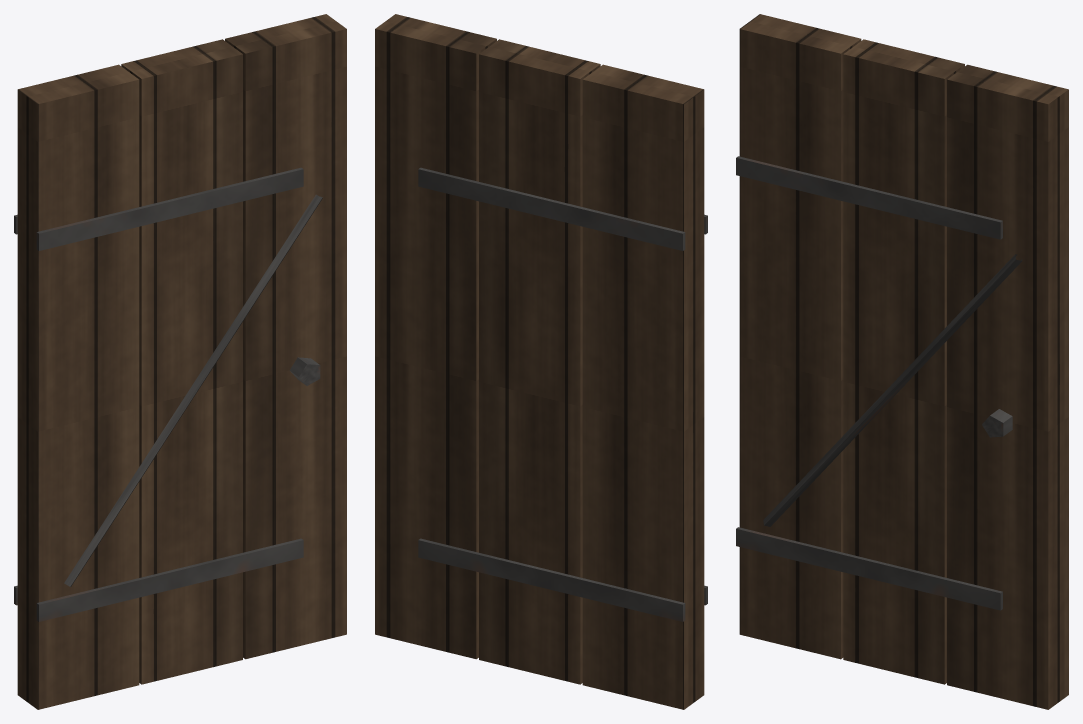
File: Door_8_Flat_LOD1.gltf
3 views of the same model, side by side, from view 1: azimuth 30°, elevation 25°; view 2: azimuth 150°, elevation 25°; view 3: azimuth 330°, elevation 25° (orthographic).
Parts seen in each view (by area): view 1: Door_8_Flat_LOD1; view 2: Door_8_Flat_LOD1; view 3: Door_8_Flat_LOD1.
Part boxes in pixels (x1,y1,x2,y2): Door_8_Flat_LOD1: (14, 14, 346, 709); Door_8_Flat_LOD1: (375, 14, 707, 709); Door_8_Flat_LOD1: (736, 14, 1068, 709).
Size of the model in its own units: 1.12 by 2.09 by 0.2.
Materials: 2 (2 with a texture image).
